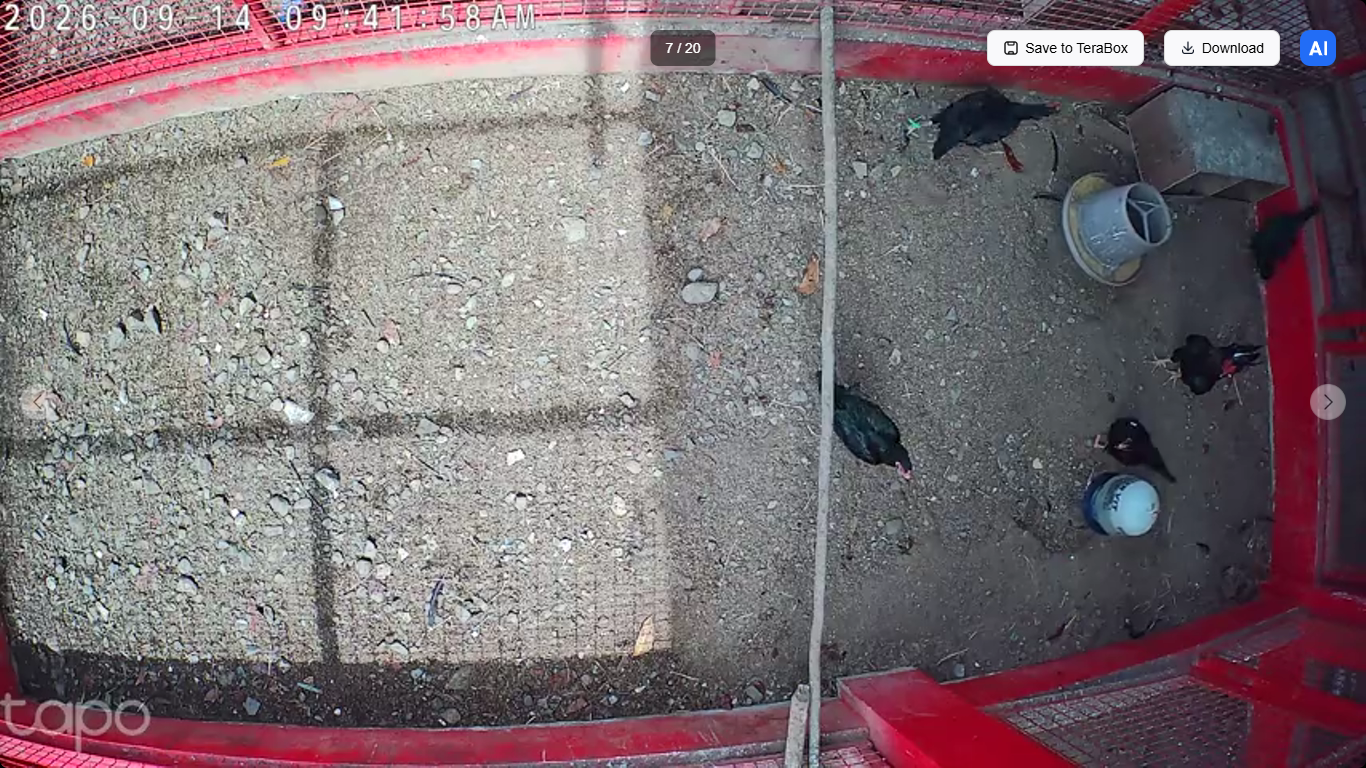Chicken: (901, 88, 1067, 162), (812, 368, 913, 479), (1091, 412, 1180, 488)
Drinker: (1082, 471, 1164, 539)
Feeder: (1062, 167, 1174, 290)
Rooster: (1140, 333, 1271, 397)
